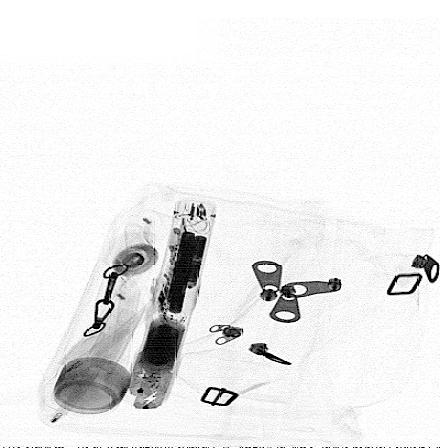Baton: (124, 196, 219, 410)
